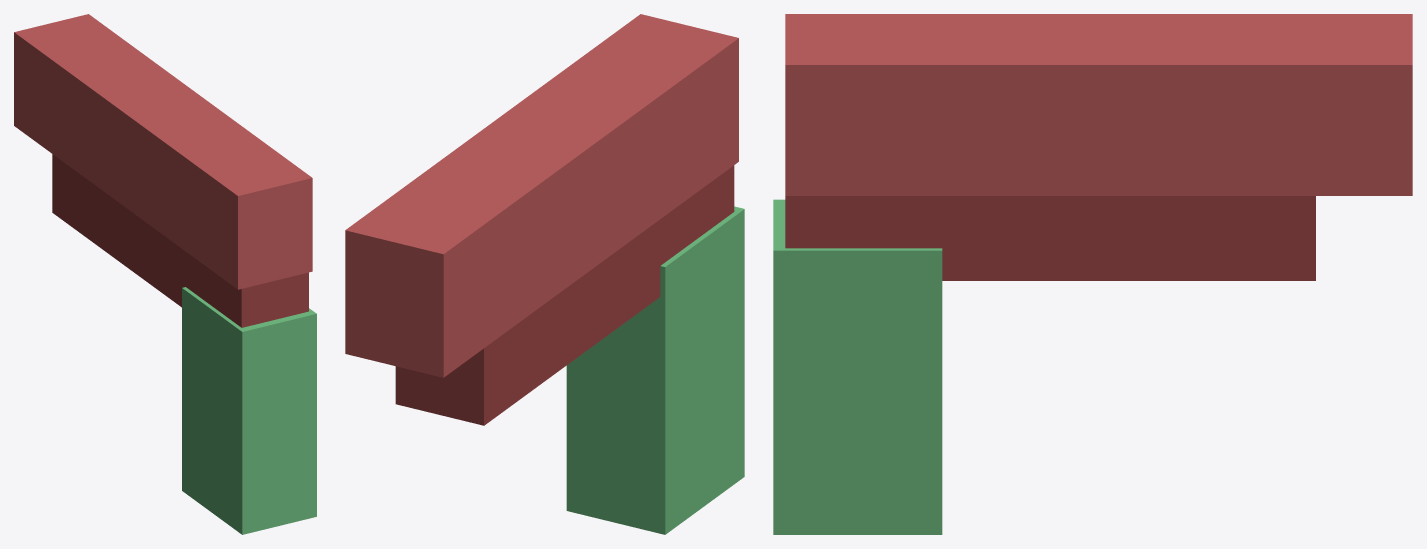
Rendered from pistol.glb.
3 renders of one model, left to right at view 1: azimuth 30°, elevation 25°; view 2: azimuth 150°, elevation 25°; view 3: azimuth 270°, elevation 25°, orthographic. The views are drawn at different scales.
Bounding box in the file's own units: 0.05 × 0.215 × 0.265.
